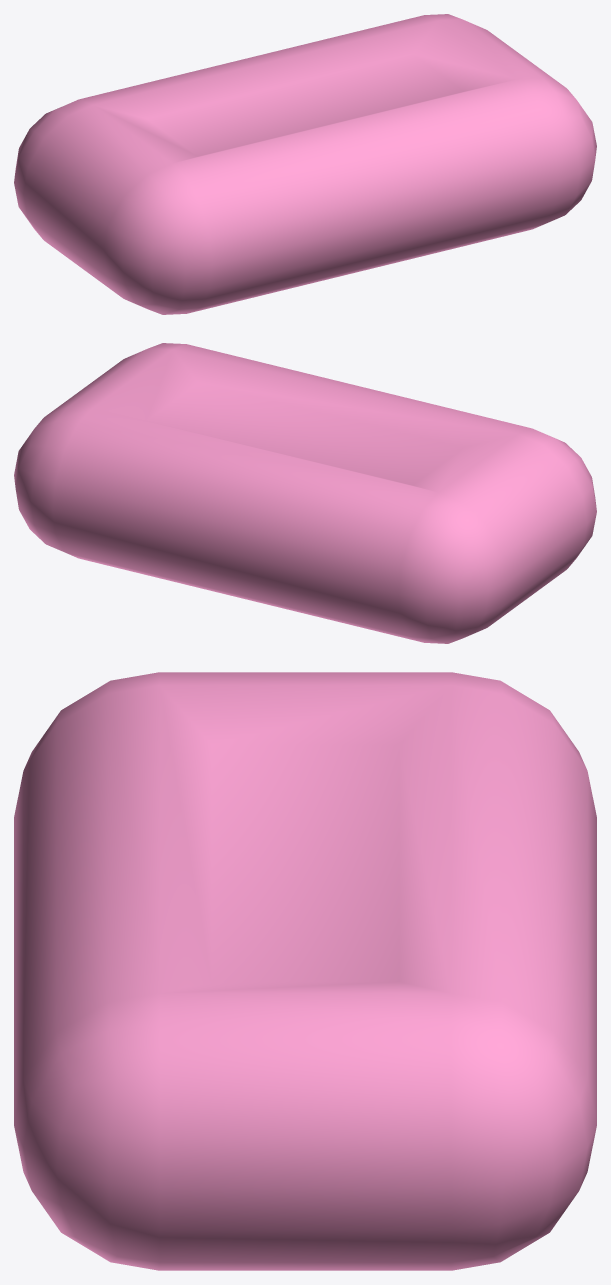
The model's file is soap.fbx.
The picture shows the model from 3 angles, top to bottom: view 1: azimuth 30°, elevation 25°; view 2: azimuth 150°, elevation 25°; view 3: azimuth 270°, elevation 25°; orthographic projection. The views are drawn at different scales.
Parts seen in each view (by area): view 1: Roundcube; view 2: Roundcube; view 3: Roundcube.
Part boxes in pixels (x1,y1,x2,y2): Roundcube: (14, 14, 596, 314); Roundcube: (14, 343, 596, 643); Roundcube: (14, 672, 596, 1270).
Bounding box in the file's own units: 700 × 200 × 400.
